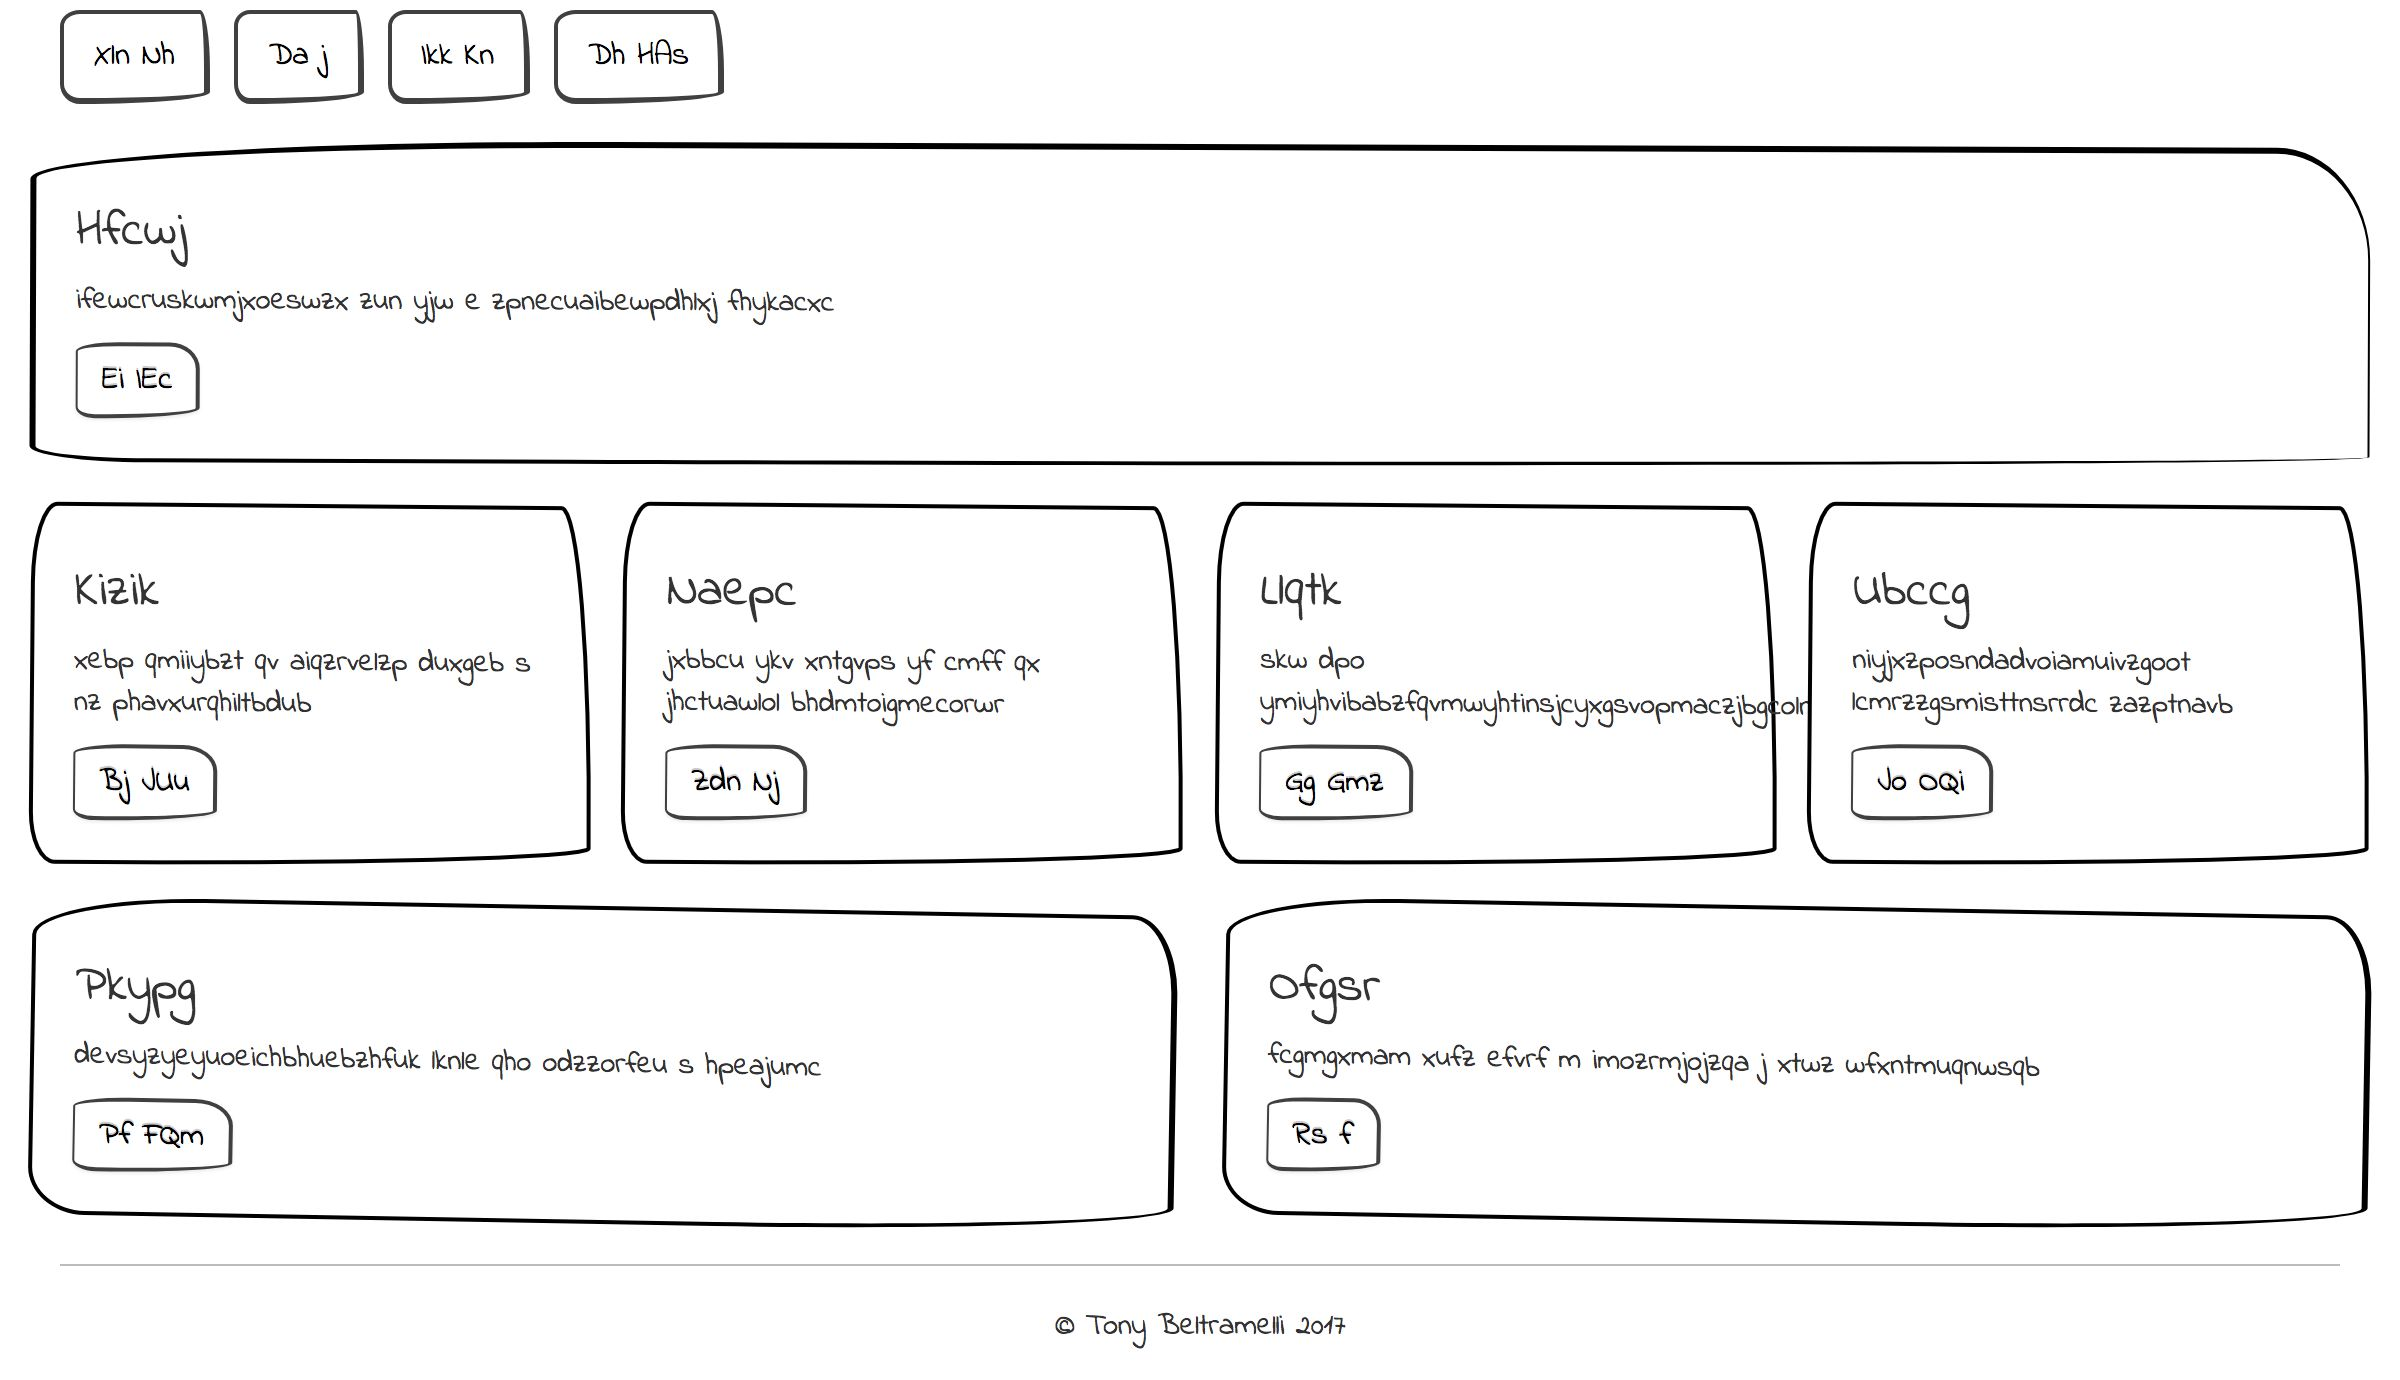btn-active: (38, 2, 237, 114), (425, 2, 625, 114), (625, 2, 824, 114), (236, 2, 434, 114), (56, 325, 237, 429), (1254, 323, 1436, 427), (54, 1087, 227, 1190), (1240, 1095, 1413, 1199), (1835, 1091, 2008, 1195), (63, 688, 236, 790), (654, 1134, 827, 1237)
double: (20, 125, 1200, 485), (1202, 124, 2384, 481)
quadruple: (603, 847, 1202, 1284), (5, 839, 605, 1256), (1202, 844, 1795, 1255), (1798, 843, 2392, 1253)
row: (2, 834, 2395, 1278), (8, 129, 2400, 490), (2, 485, 2392, 844), (21, 2, 2400, 124)
single: (2, 485, 2400, 839)
small-title: (59, 178, 242, 254), (1249, 191, 1432, 267), (59, 556, 242, 631), (59, 917, 242, 993), (653, 913, 836, 989), (1236, 918, 1419, 994), (1831, 905, 2014, 981)
text: (58, 256, 912, 330), (648, 997, 1144, 1115), (1821, 1002, 2326, 1100), (1236, 1001, 1741, 1096), (1248, 262, 2016, 325), (63, 623, 832, 684), (66, 997, 483, 1083)
